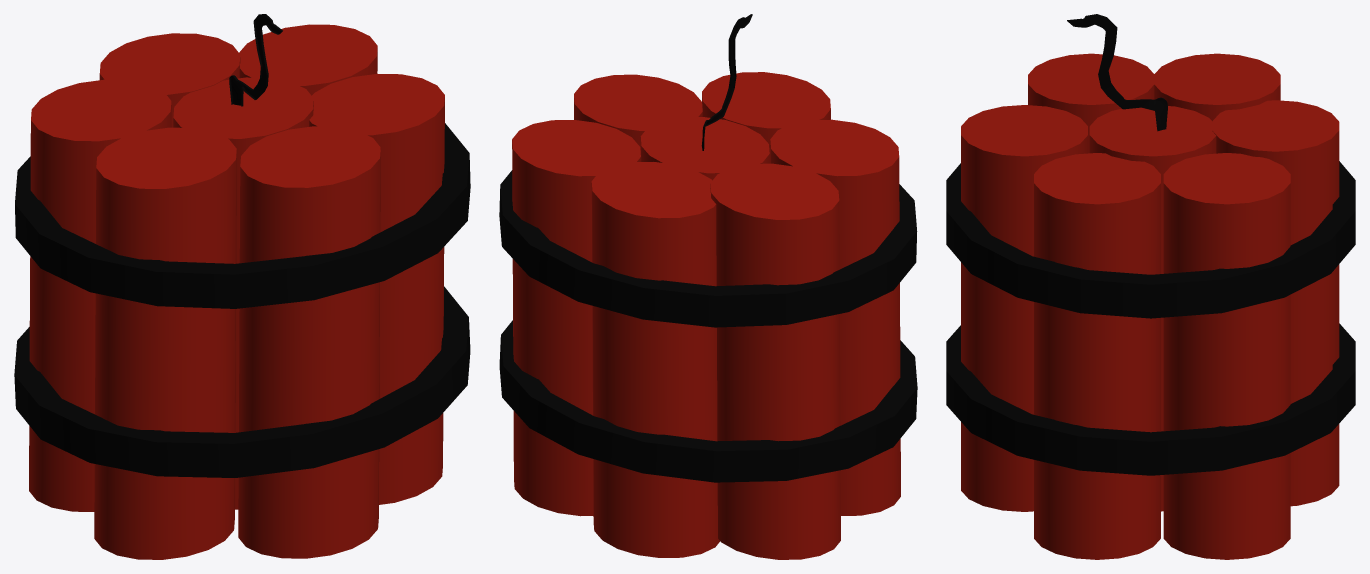
Rendered from Dynamite Textured.fbx.
The picture shows the model from 3 angles, left to right: view 1: azimuth 30°, elevation 25°; view 2: azimuth 150°, elevation 25°; view 3: azimuth 270°, elevation 25°; orthographic projection. The views are drawn at different scales.
Visible parts, largest first — view 1: Line001, Object, Object002; view 2: Line001, Object, Object002; view 3: Line001, Object, Object002.
Part boxes in pixels (x1=…): Line001: x1=29, y1=24, x2=444, y2=559; Object: x1=14, y1=123, x2=470, y2=477; Object002: x1=229, y1=14, x2=282, y2=106; Line001: x1=512, y1=72, x2=900, y2=559; Object: x1=499, y1=170, x2=917, y2=482; Object002: x1=701, y1=14, x2=752, y2=150; Line001: x1=961, y1=53, x2=1339, y2=559; Object: x1=946, y1=161, x2=1355, y2=475; Object002: x1=1067, y1=14, x2=1167, y2=131.
Bounding box in the file's own units: 39.3 × 45.35 × 35.56.
